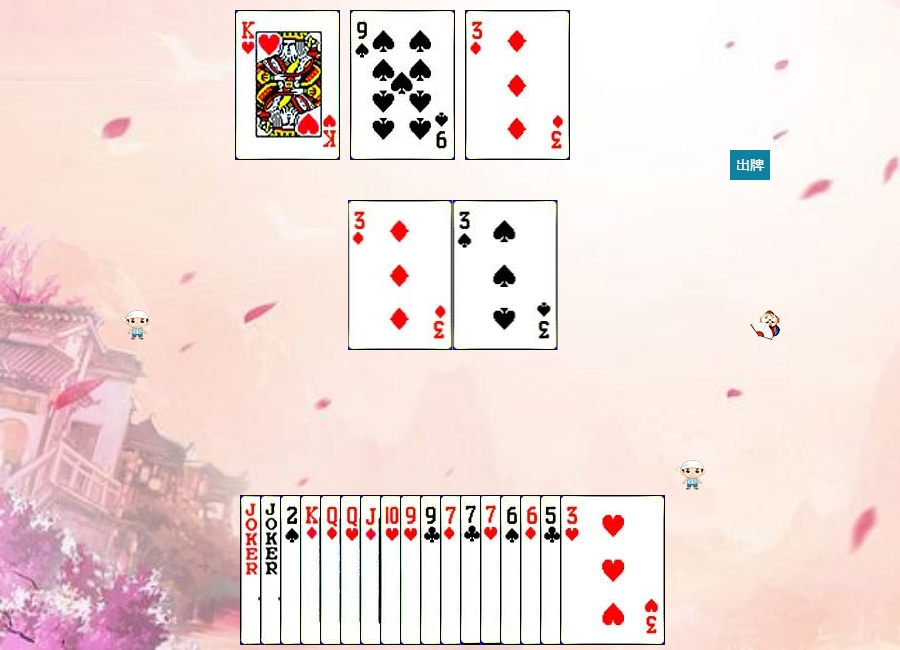10~3: (380, 495, 485, 645)
11~1: (360, 495, 465, 645)
12~1: (320, 495, 425, 645)
12~3: (340, 495, 445, 645)
13~1: (300, 495, 405, 645)
13~3: (235, 10, 340, 160)
15~4: (280, 495, 385, 645)
17~3: (260, 495, 365, 645)
18~4: (240, 495, 345, 645)
3~1: (465, 10, 570, 160), (348, 200, 453, 350)
3~3: (560, 495, 665, 645)
3~4: (453, 200, 558, 350)
5~2: (540, 495, 645, 645)
6~1: (520, 495, 625, 645)
6~4: (500, 495, 605, 645)
7~1: (440, 495, 545, 645)
7~2: (460, 495, 565, 645)
7~3: (480, 495, 585, 645)
9~2: (420, 495, 525, 645)
9~3: (400, 495, 505, 645)
9~4: (350, 10, 455, 160)
